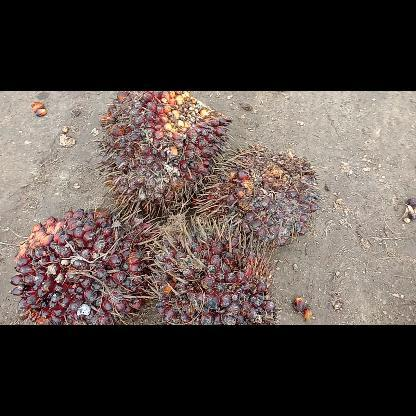TBS masak: (9, 207, 161, 324), (94, 91, 230, 216), (148, 212, 280, 324), (196, 144, 322, 246)
